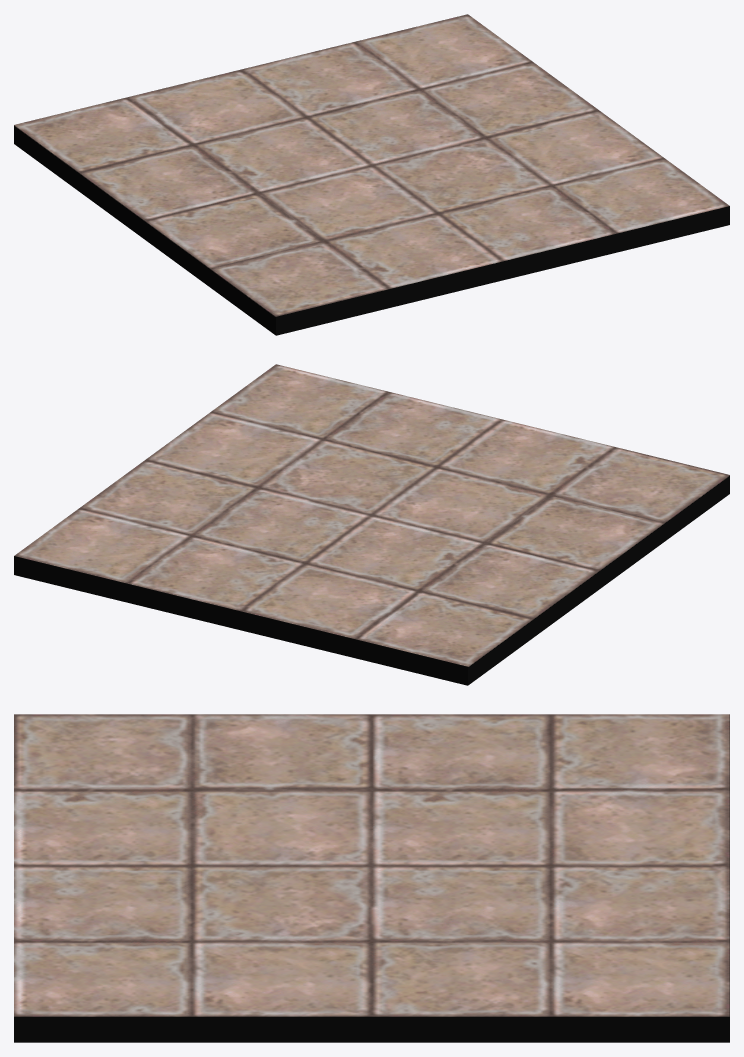
The model's file is floor.fbx.
3 views of the same model, one above another, from view 1: azimuth 30°, elevation 25°; view 2: azimuth 150°, elevation 25°; view 3: azimuth 270°, elevation 25° (orthographic). The views are drawn at different scales.
Visible parts, largest first — view 1: floor; view 2: floor; view 3: floor.
Part boxes in pixels (bbox=[...]): floor: bbox=[14, 14, 729, 335]; floor: bbox=[14, 364, 729, 685]; floor: bbox=[14, 714, 729, 1042].
Size of the model in its own units: 2.5 by 0.1 by 2.5.
1 material, 1 textured.
